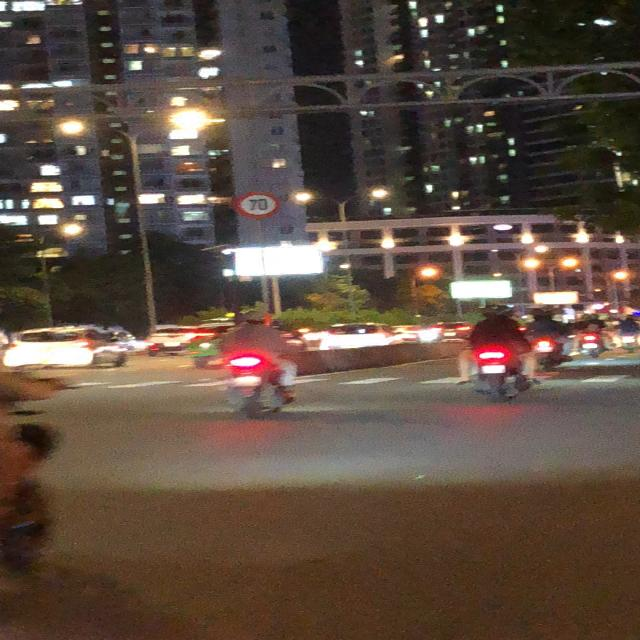Bien bao toc do toi da cho phep: (232, 188, 282, 221)
